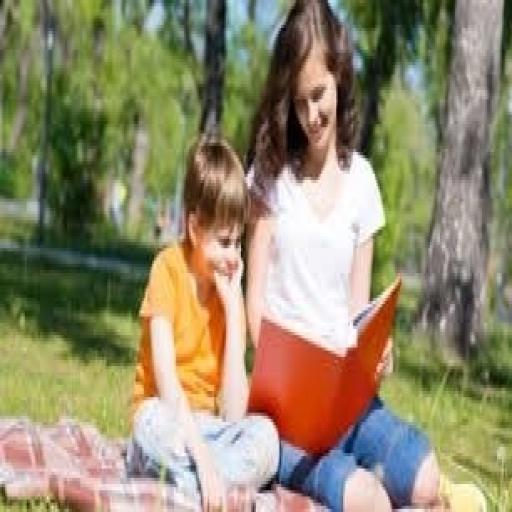sitting: (124, 0, 487, 509), (126, 130, 281, 509)
